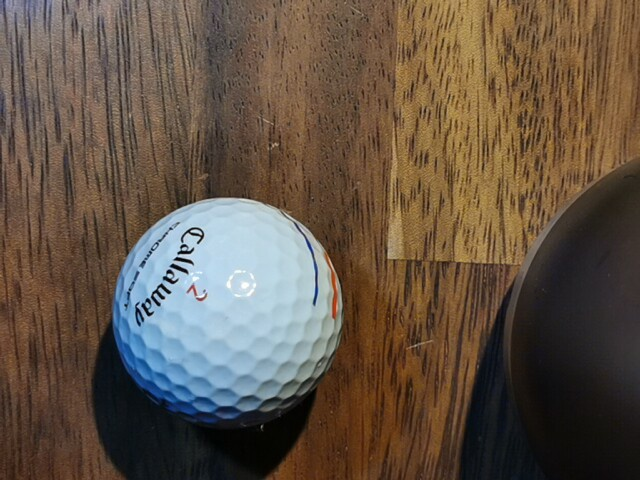Ball: (112, 197, 342, 430)
Callaway: (135, 227, 205, 327)
